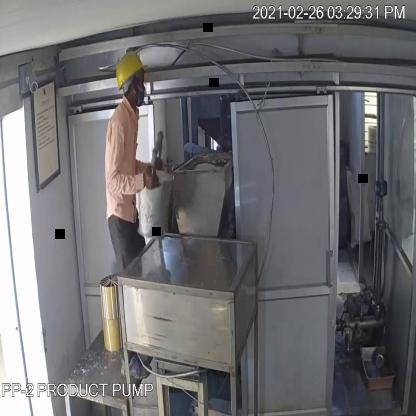helmet: (113, 48, 150, 90)
